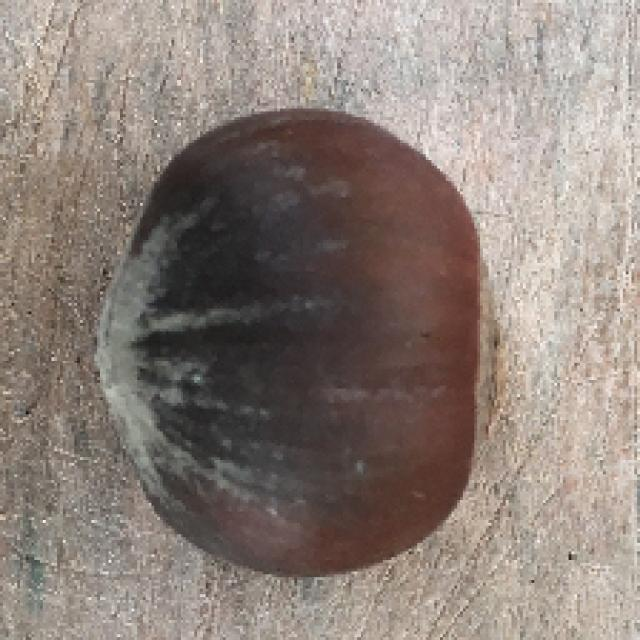damagedHazelnut: (97, 100, 505, 584)
